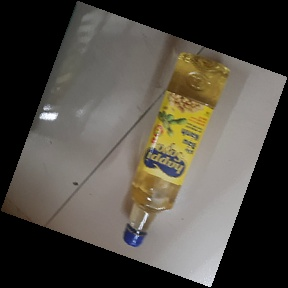Happy Soya: (122, 53, 231, 248)
